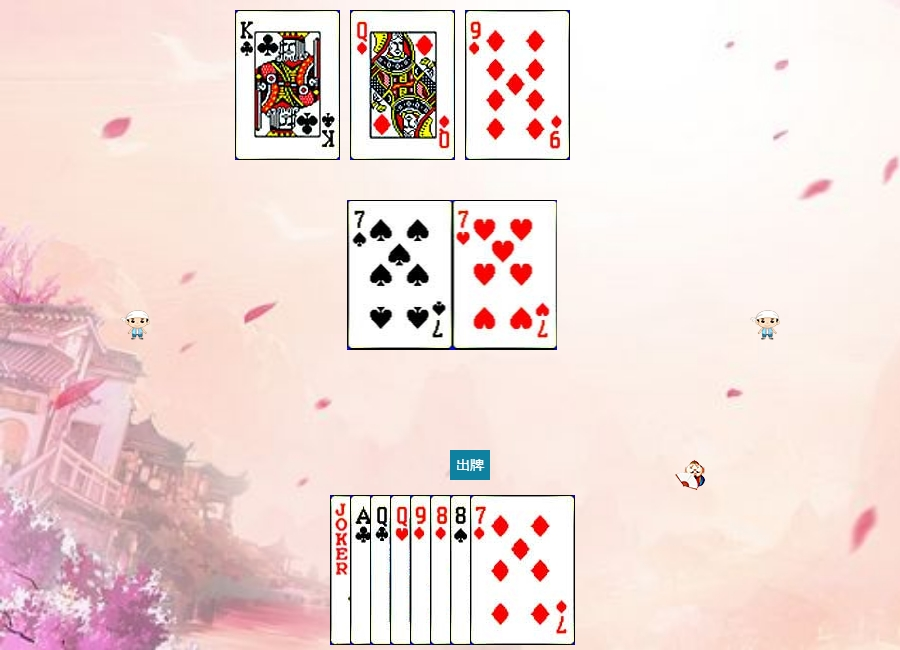12~1: (350, 10, 455, 160)
12~2: (370, 495, 475, 645)
12~3: (390, 495, 495, 645)
13~2: (235, 10, 340, 160)
14~2: (350, 495, 455, 645)
18~4: (330, 495, 435, 645)
7~1: (470, 495, 575, 645)
7~3: (453, 200, 558, 350)
7~4: (348, 200, 453, 350)
8~1: (430, 495, 535, 645)
8~4: (450, 495, 555, 645)
9~1: (465, 10, 570, 160), (410, 495, 515, 645)
